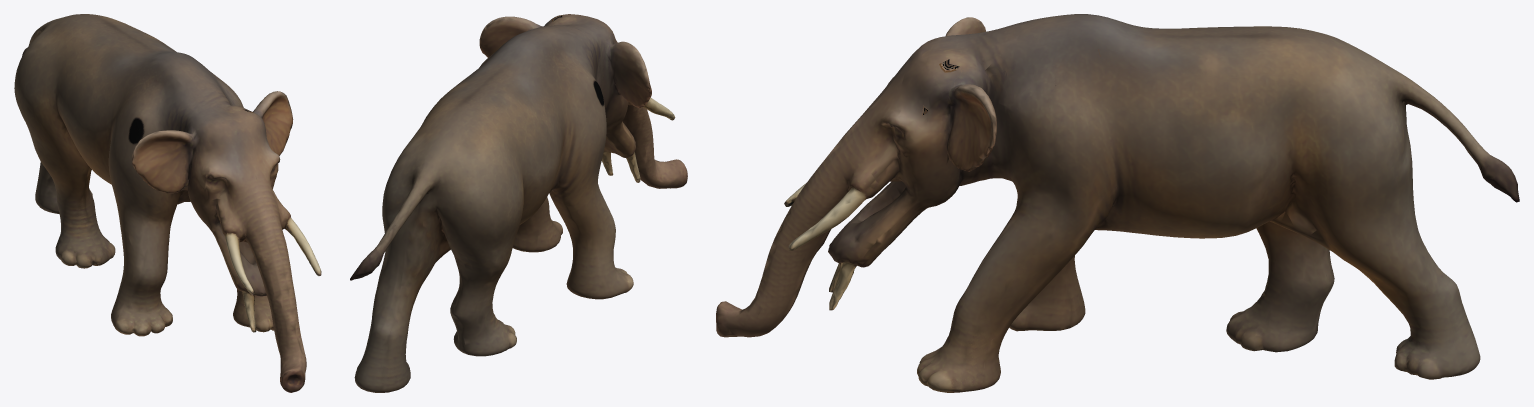
3 views of the same model, side by side, from view 1: azimuth 30°, elevation 25°; view 2: azimuth 150°, elevation 25°; view 3: azimuth 270°, elevation 25° (orthographic). The views are drawn at different scales.
Parts seen in each view (by area): view 1: world; view 2: world; view 3: world.
Part boxes in pixels (x1,y1,x2,y2): world: [14, 14, 321, 392]; world: [350, 14, 687, 392]; world: [716, 14, 1519, 392].
Size of the model in its own units: 1.29 by 1.86 by 4.
1 material, 1 textured.
